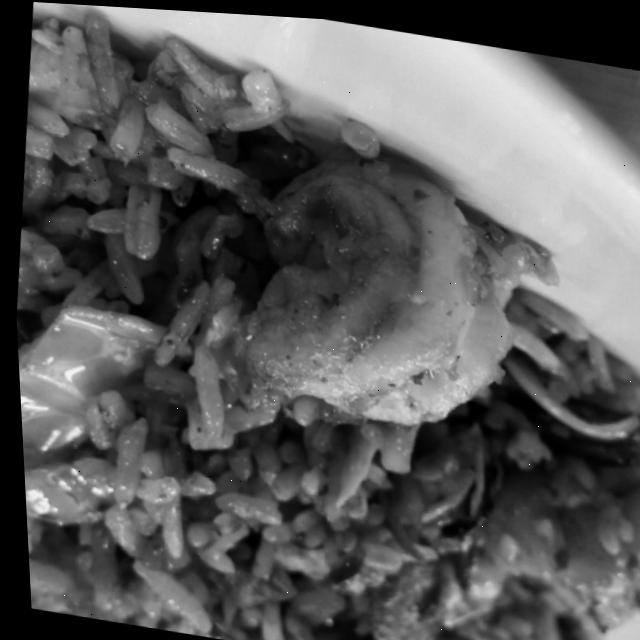米饭主食: (1, 35, 640, 640)
